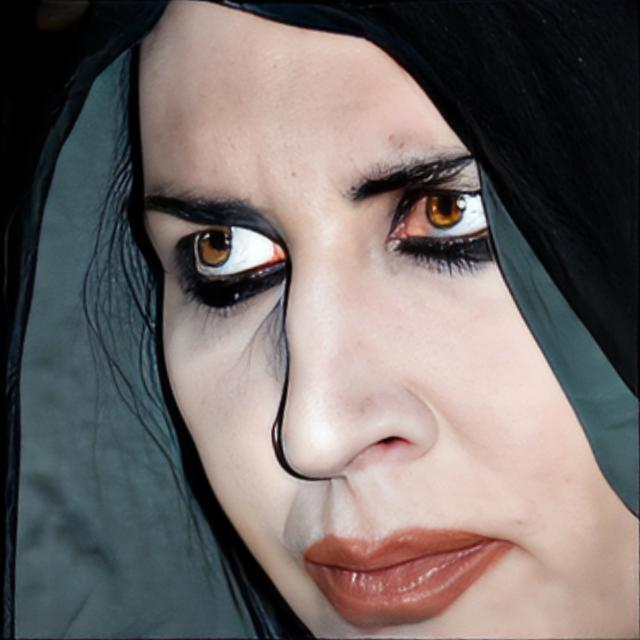sad: (132, 0, 640, 640)
